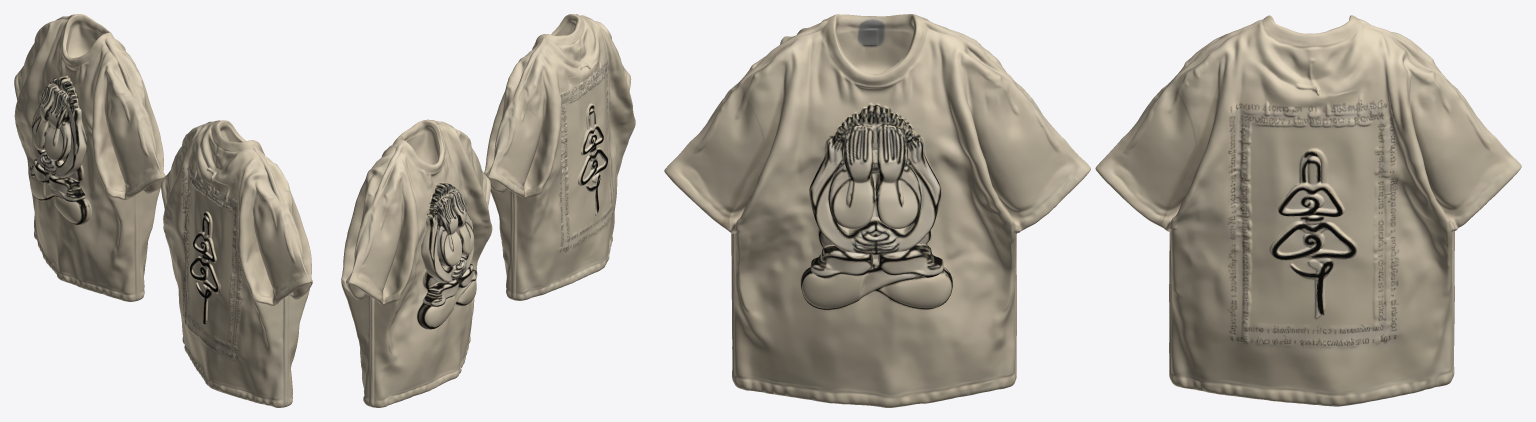
File: Beige-Graphic-T-Shirt.glb
3 renders of one model, left to right at view 1: azimuth 30°, elevation 25°; view 2: azimuth 150°, elevation 25°; view 3: azimuth 270°, elevation 25°, orthographic. The views are drawn at different scales.
Parts seen in each view (by area): view 1: tripo_node_0693259f-ea49-44a4-acb6-29fa5541fcdf; view 2: tripo_node_0693259f-ea49-44a4-acb6-29fa5541fcdf; view 3: tripo_node_0693259f-ea49-44a4-acb6-29fa5541fcdf.
Boxes of the visible parts, x1,y1,x2,y2 form: tripo_node_0693259f-ea49-44a4-acb6-29fa5541fcdf: (14,14,312,407); tripo_node_0693259f-ea49-44a4-acb6-29fa5541fcdf: (341,14,635,407); tripo_node_0693259f-ea49-44a4-acb6-29fa5541fcdf: (664,14,1521,407).
Bounding box in the file's own units: 0.4176 × 1 × 2.12.
1 material, 1 textured.
